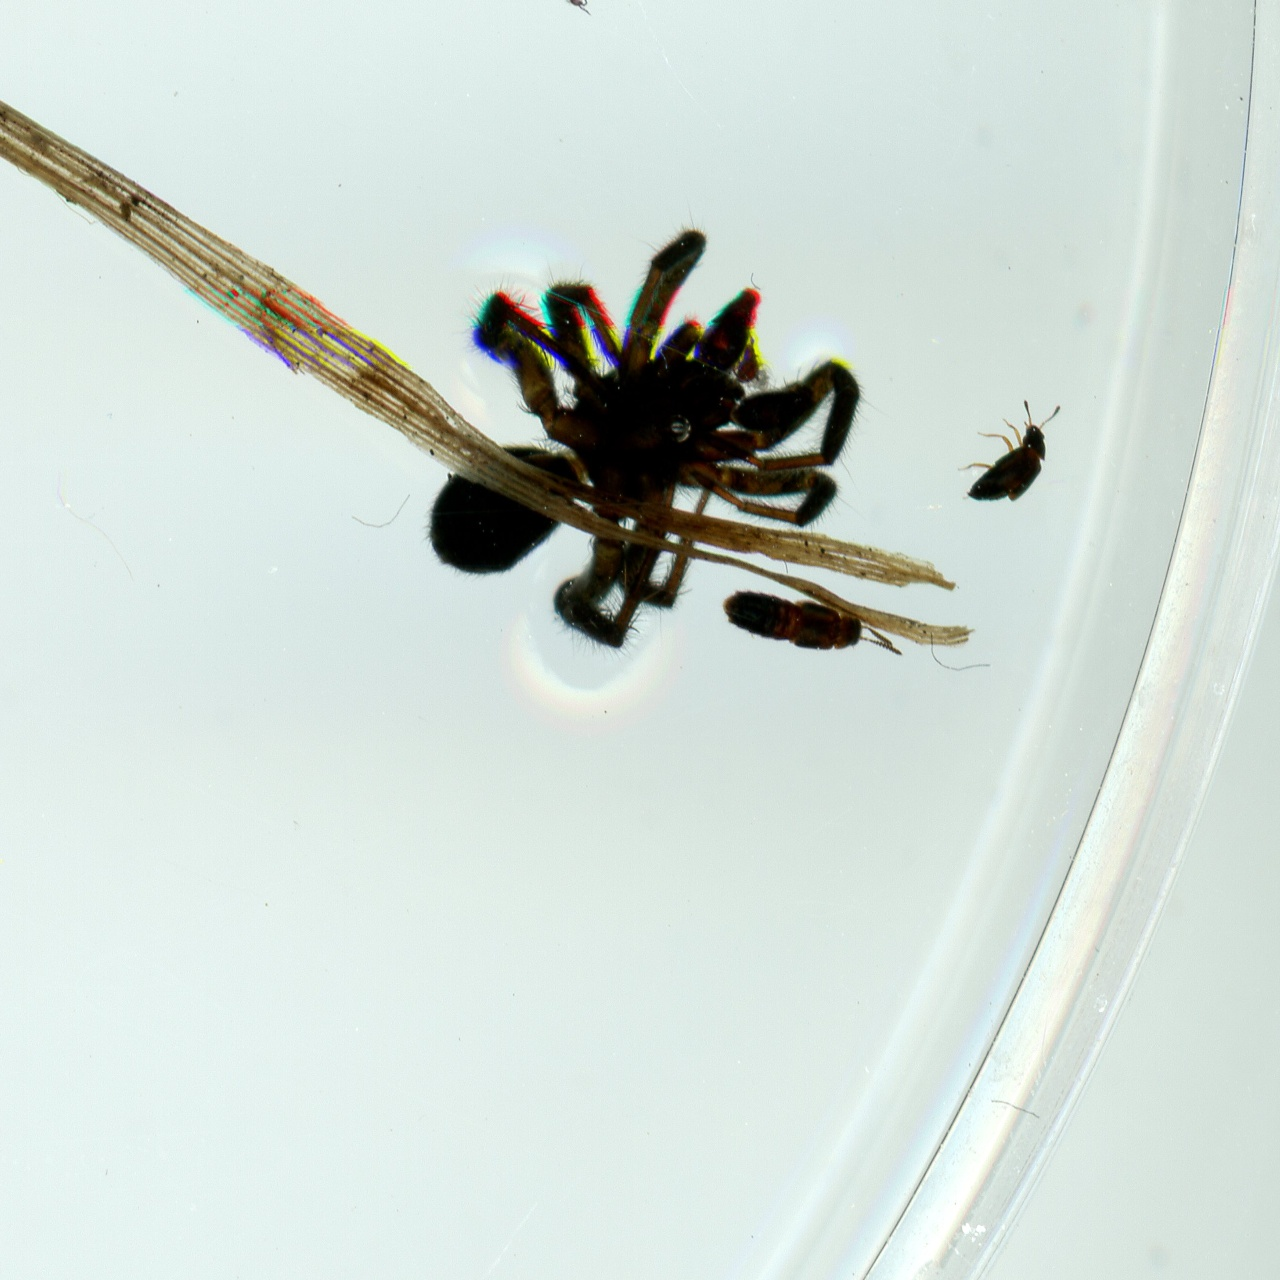arthropod: (406, 196, 878, 659), (713, 580, 921, 674), (951, 390, 1068, 513), (539, 0, 607, 22)
